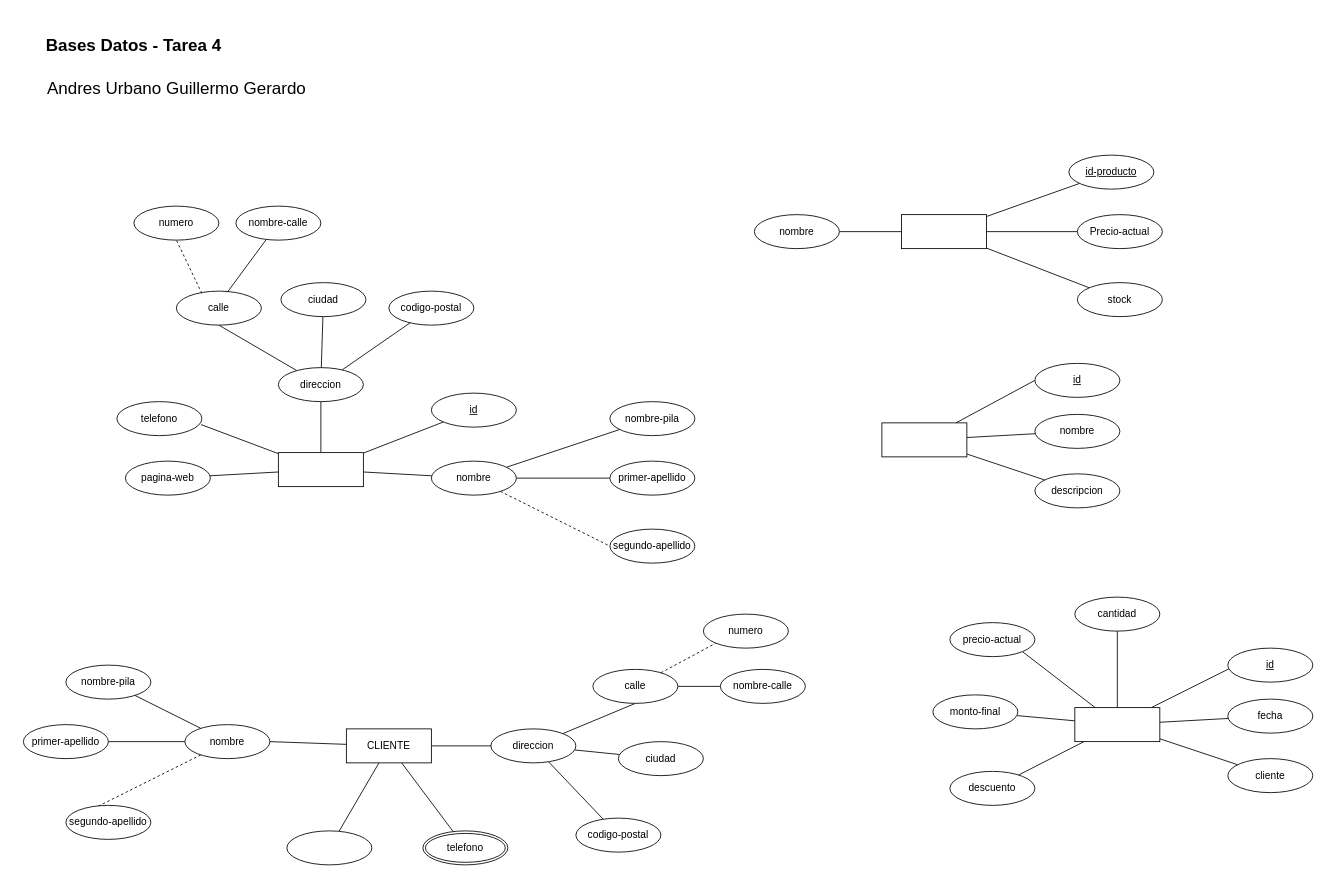
This 1328x881 diagram has some shape labels left out. The centre of each missing label's shape, as x and y in pixels:
"CATEGORIA" belongs at (x=924, y=439).
"id-cliente" belongs at (x=329, y=847).
"PRODUCTO" belongs at (x=943, y=231).
"PROVEDOR" belongs at (x=320, y=469).
"VENTA" belongs at (x=1117, y=724).
